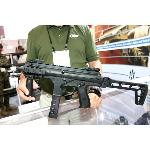Senapan: (6, 57, 150, 120)
